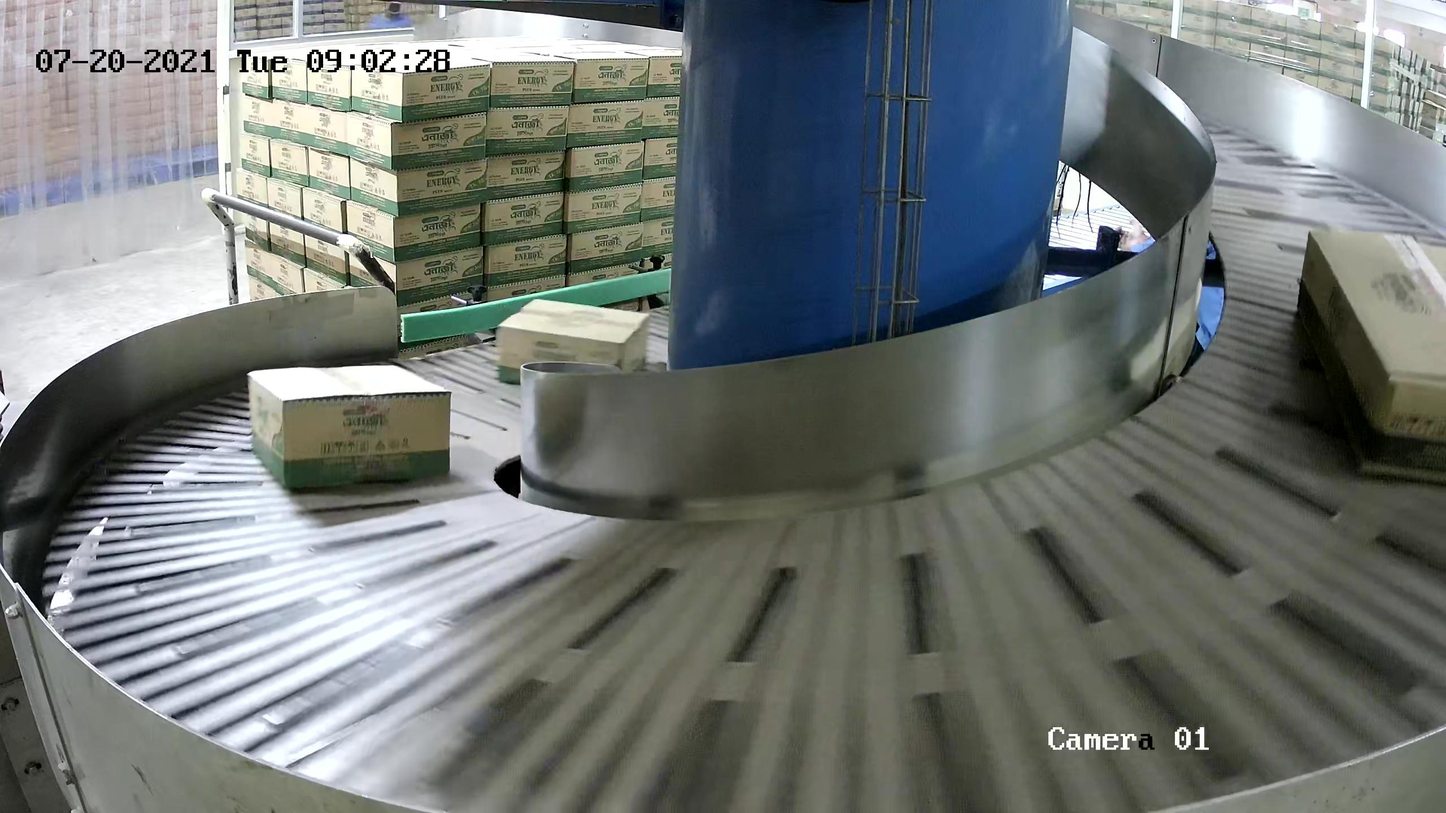Box: (1296, 228, 1446, 485), (246, 364, 453, 491), (495, 298, 650, 385)
